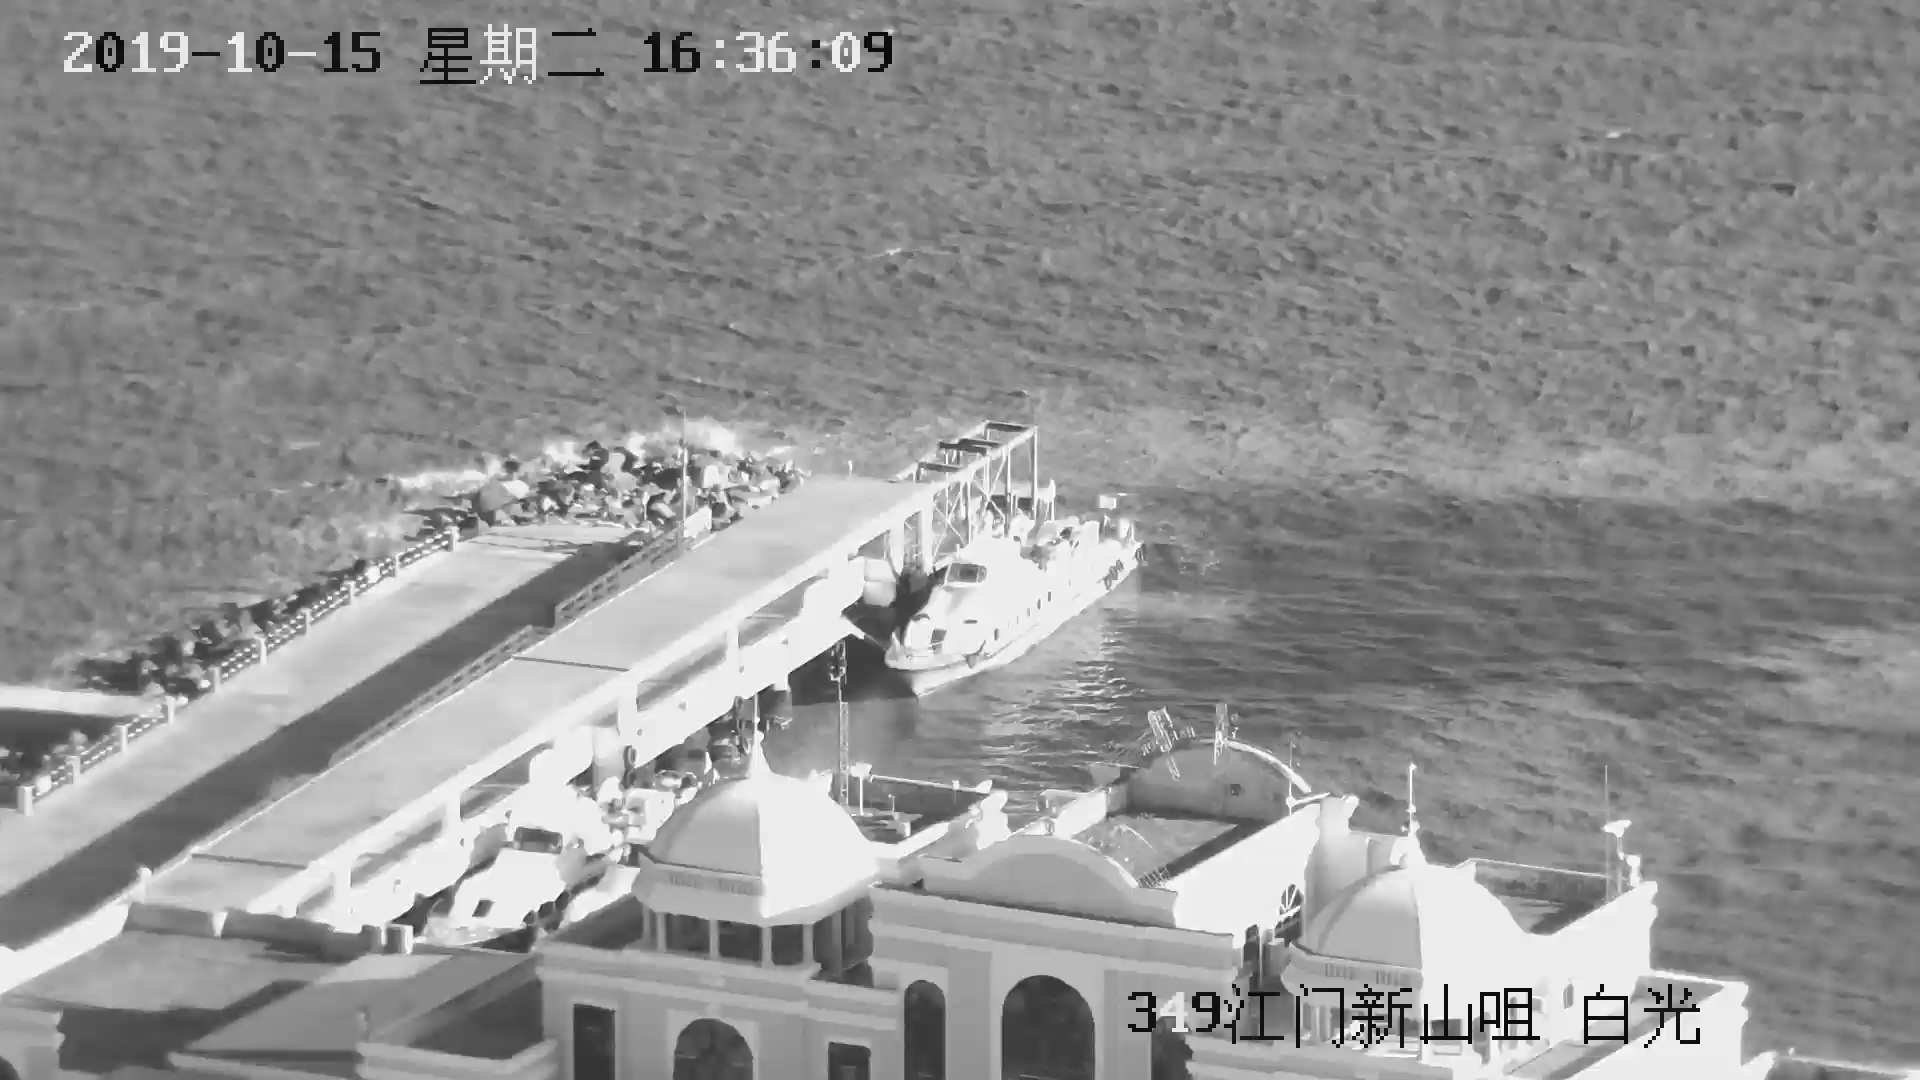ship: (847, 477, 1156, 696)
